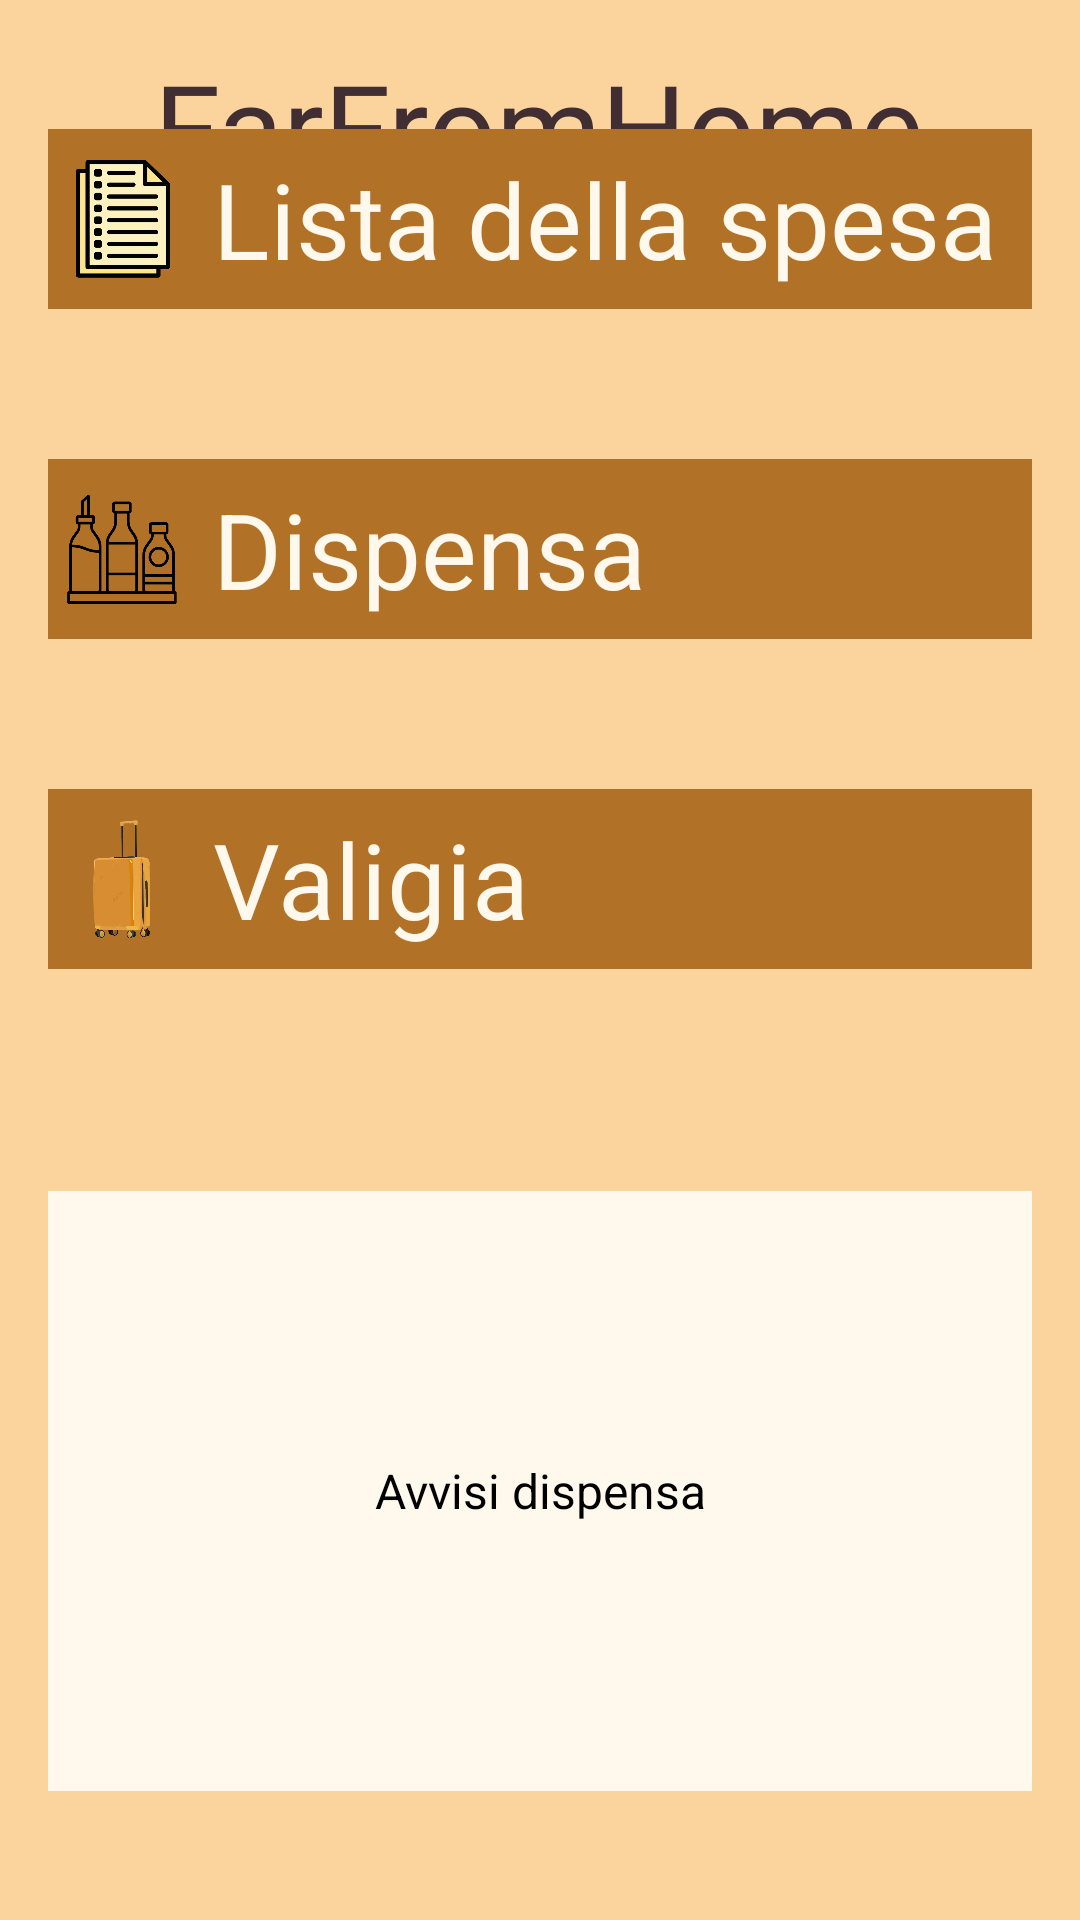

Where to tap for icons on this 1080px x 1920px app screen, as point (x, y):
paperscaled: point (123, 219)
suitcasescaled: point (121, 879)
